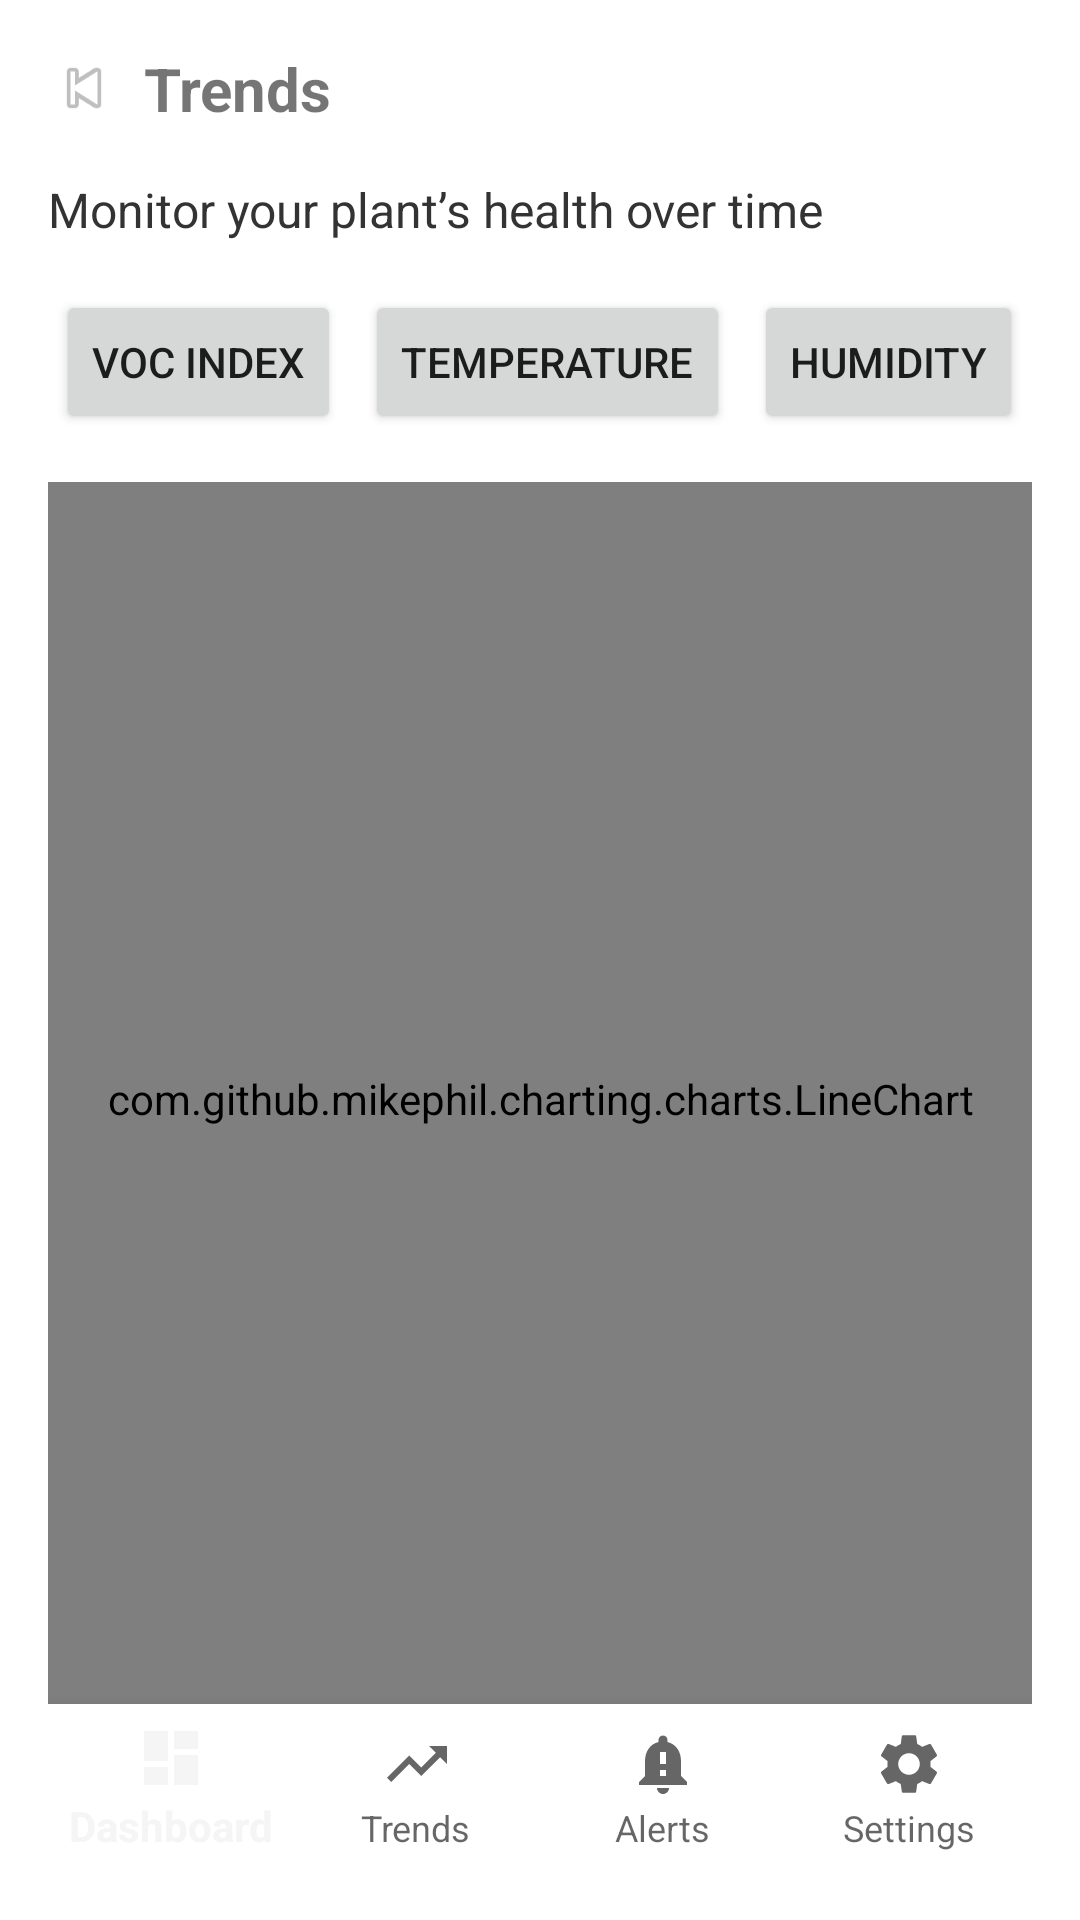

Screen size 1080px x 1920px. Icon name, then its center in pixels as (x,y):
previous: (84,88)
